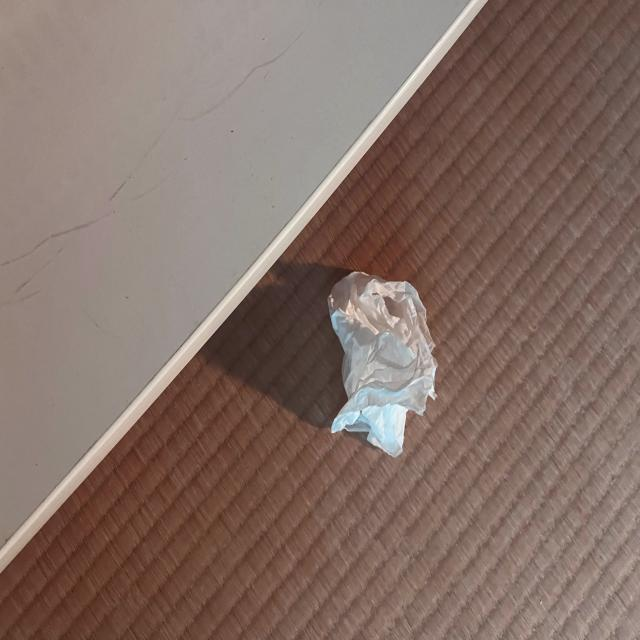Paper: (316, 263, 443, 477)
